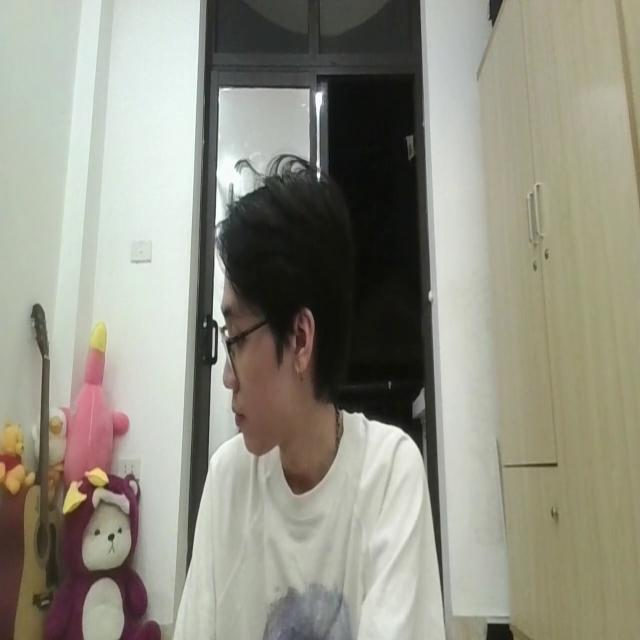student: (157, 150, 450, 640)
